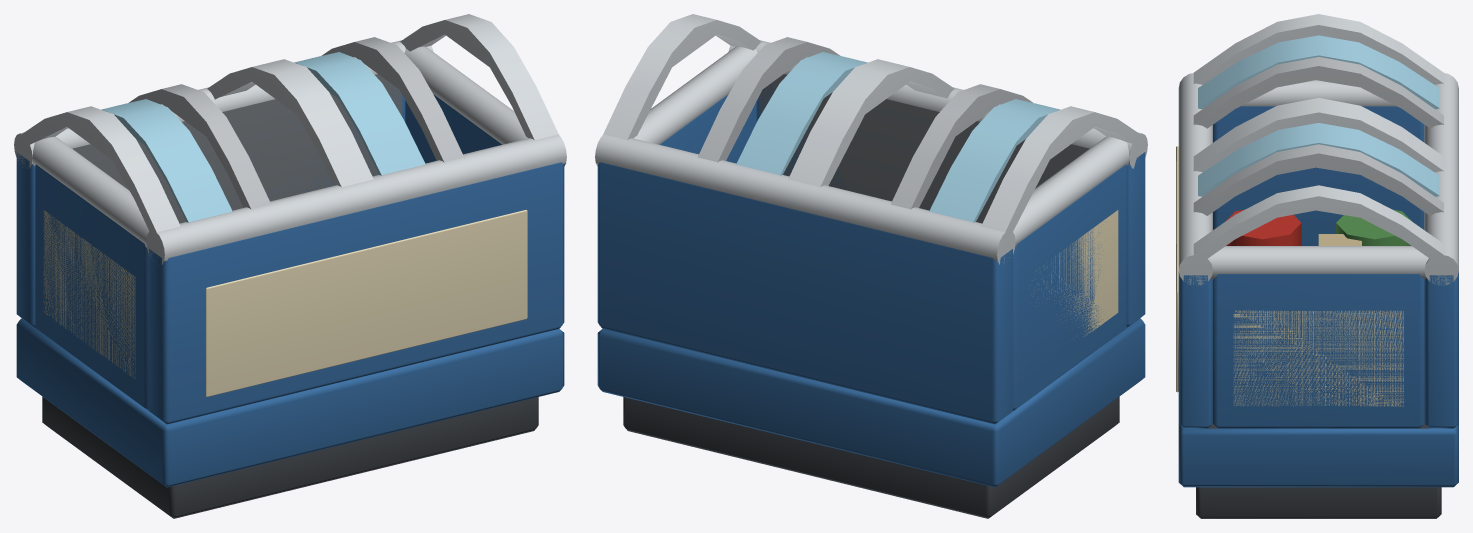
Rendered from IceCream_Chest_01.glb.
3 views of the same model, side by side, from view 1: azimuth 30°, elevation 25°; view 2: azimuth 150°, elevation 25°; view 3: azimuth 270°, elevation 25° (orthographic). The views are drawn at different scales.
Visible parts, largest first — view 1: SM_IceCream_Chest_01; view 2: SM_IceCream_Chest_01; view 3: SM_IceCream_Chest_01.
Part boxes in pixels (x1,y1,x2,y2): SM_IceCream_Chest_01: (14,14,566,518); SM_IceCream_Chest_01: (595,14,1147,518); SM_IceCream_Chest_01: (1176,14,1458,518).
Bounding box in the file's own units: 1 × 0.85 × 0.656.
Materials: 1 (1 with a texture image).
